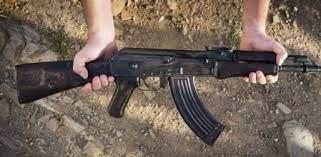larga: (14, 47, 321, 146)
